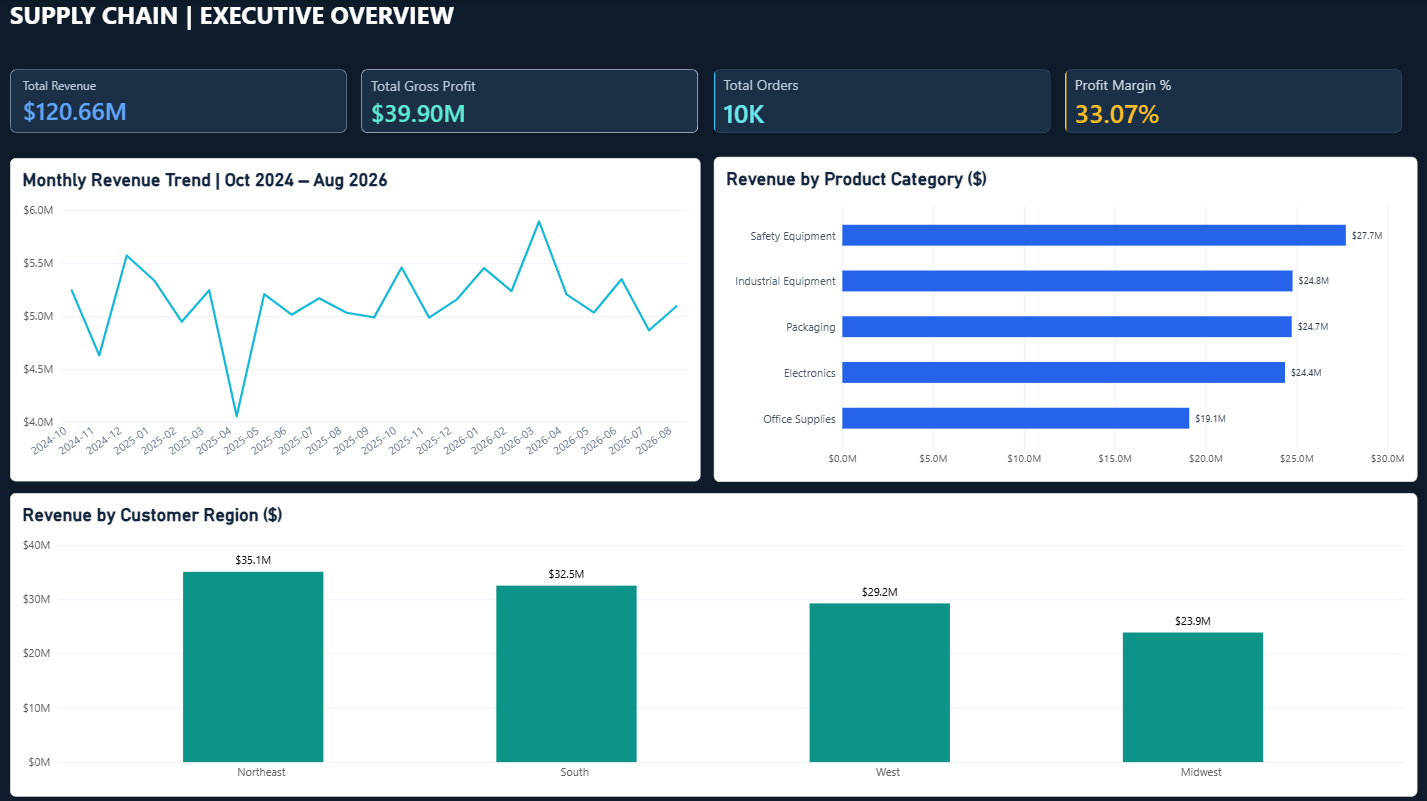

Layout of this report page (visuals, bound fields, positions):
{"tool":"powerbi","page":{"name":"Executive Overview","canvas":[1920,1080],"ordinal":0},"visuals":[{"type":"cardVisual","fields":{"Data":["Sales Performance.Total Gross Profit"]},"box":[490,95.2,450,85],"z":0},{"type":"cardVisual","fields":{"Data":["Sales Performance.Total Orders"]},"box":[960,95.2,450,85],"z":1000},{"type":"cardVisual","fields":{"Data":["Sales Performance.Profit Margin %"]},"box":[1430,95.2,450,85],"z":2000},{"type":"lineChart","title":"Monthly Revenue Trend | Oct 2024 – Aug 2026","fields":{"Category":["DateTable.Year Month"],"Y":["Sales Performance.Total Revenue"]},"box":[19.8,214.3,922.2,432.3],"z":3000},{"type":"clusteredBarChart","title":"Revenue by Product Category ($)","fields":{"Category":["Sales Performance.Category"],"Y":["Sales Performance.Total Revenue"]},"box":[960,212.5,940.2,434.1],"z":4000},{"type":"clusteredColumnChart","title":"Revenue by Customer Region ($)","fields":{"Category":["Sales Performance.CustomerRegion"],"Y":["Sales Performance.Total Revenue"]},"box":[19.8,661,1880.4,405.3],"z":5000},{"type":"textbox","box":[20,0,700,85],"z":6000},{"type":"cardVisual","fields":{"Data":["Sales Performance.Total Revenue"]},"box":[20,95.2,450,85],"z":7000}]}

Visuals, with their boxes in screenshot pixels (x1, y1, x2, y2), scaled from the page's 1920x1080 canvas onto the 1427x801 screenshot:
cardVisual - Sales Performance.Total Gross Profit: bbox=[364, 71, 699, 134]
cardVisual - Sales Performance.Total Orders: bbox=[714, 71, 1048, 134]
cardVisual - Sales Performance.Profit Margin %: bbox=[1063, 71, 1397, 134]
"Monthly Revenue Trend | Oct 2024 – Aug 2026" lineChart: bbox=[15, 159, 700, 480]
"Revenue by Product Category ($)" clusteredBarChart: bbox=[714, 158, 1412, 480]
"Revenue by Customer Region ($)" clusteredColumnChart: bbox=[15, 490, 1412, 791]
textbox: bbox=[15, 0, 535, 63]
cardVisual - Sales Performance.Total Revenue: bbox=[15, 71, 349, 134]
